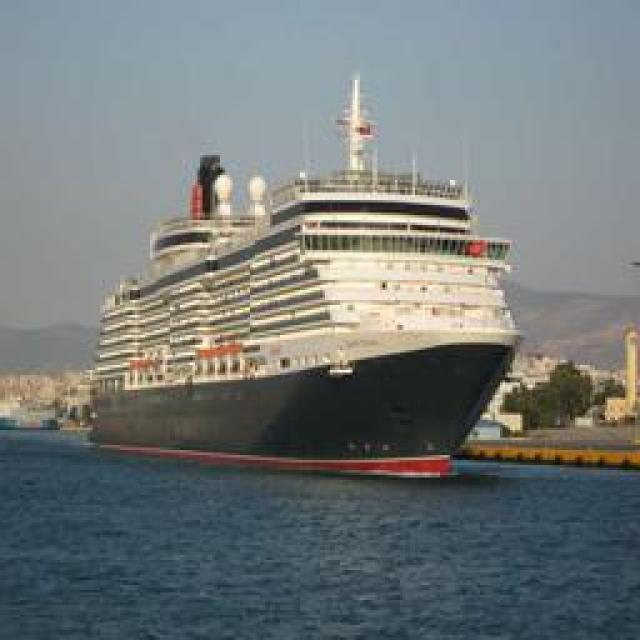ship2: (86, 72, 524, 479)
